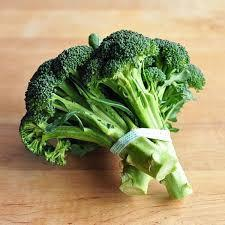broccoli: (18, 28, 206, 200)
